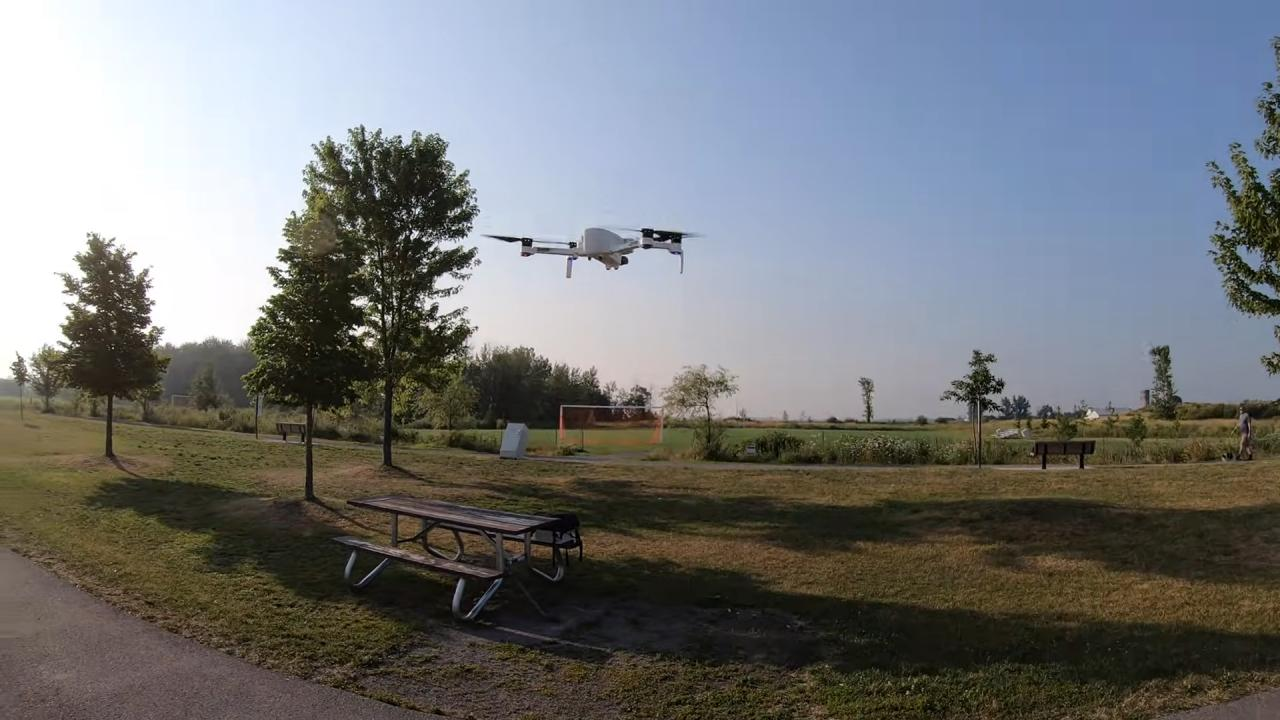Drone: (476, 219, 708, 298)
